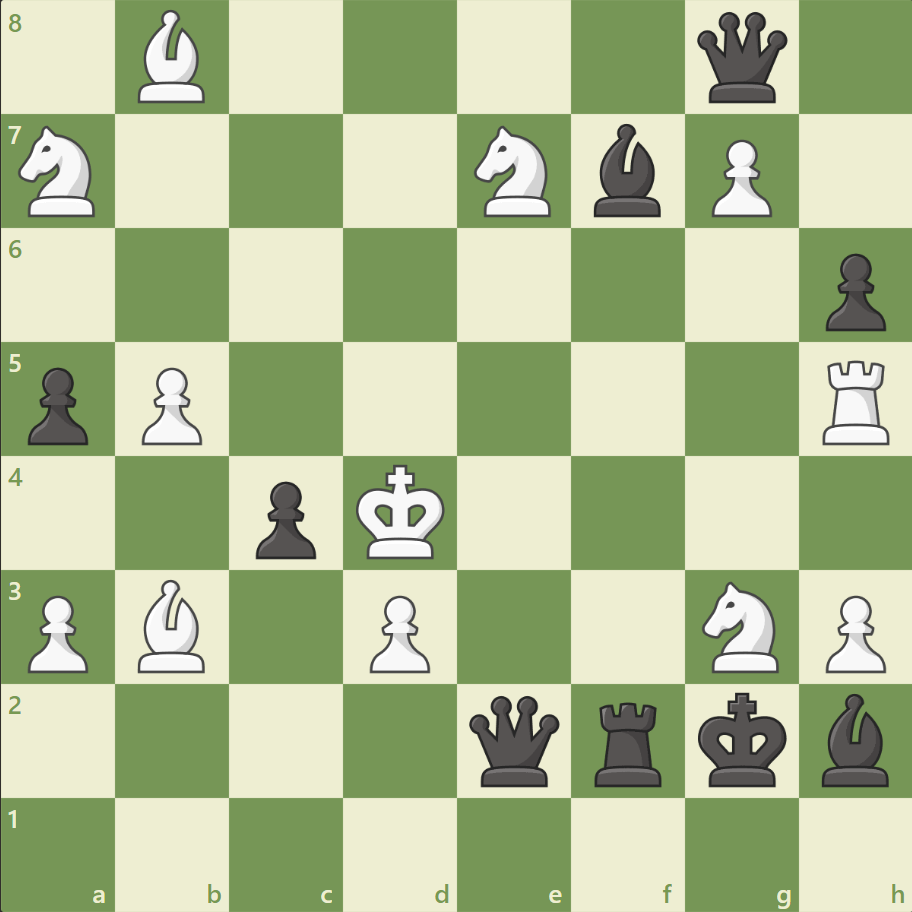B: (131, 6, 215, 109), (131, 574, 215, 676)
K: (351, 458, 451, 566)
N: (11, 121, 108, 223), (465, 121, 562, 223), (692, 575, 789, 677)
P: (701, 132, 776, 223), (133, 359, 208, 450), (20, 586, 95, 677), (361, 586, 435, 677), (815, 586, 889, 677)
R: (814, 352, 897, 449)
b: (812, 687, 896, 790), (585, 120, 669, 222)
k: (692, 685, 792, 793)
p: (20, 359, 95, 450), (247, 473, 322, 564), (815, 246, 889, 337)
q: (691, 9, 790, 108), (464, 690, 563, 789)
r: (587, 693, 670, 790)
